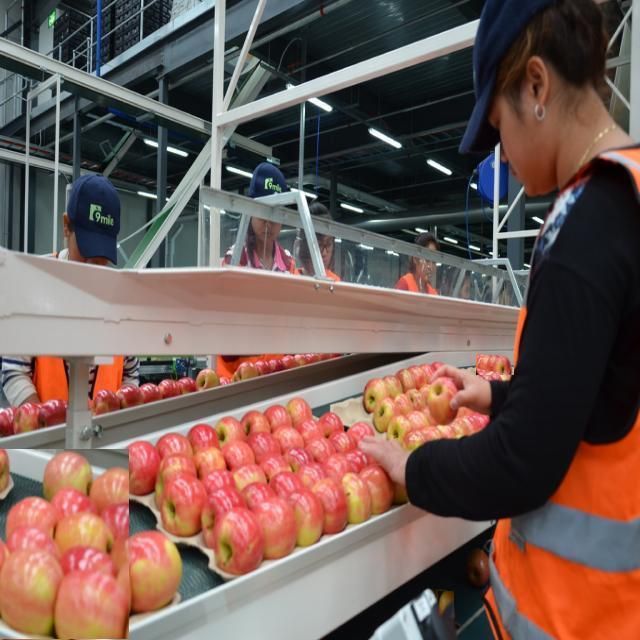Apple: (118, 394, 406, 573), (0, 449, 129, 639), (92, 352, 340, 414), (363, 354, 489, 456), (116, 531, 176, 626), (0, 398, 70, 436), (476, 352, 514, 375), (470, 552, 488, 588), (438, 591, 454, 617)
